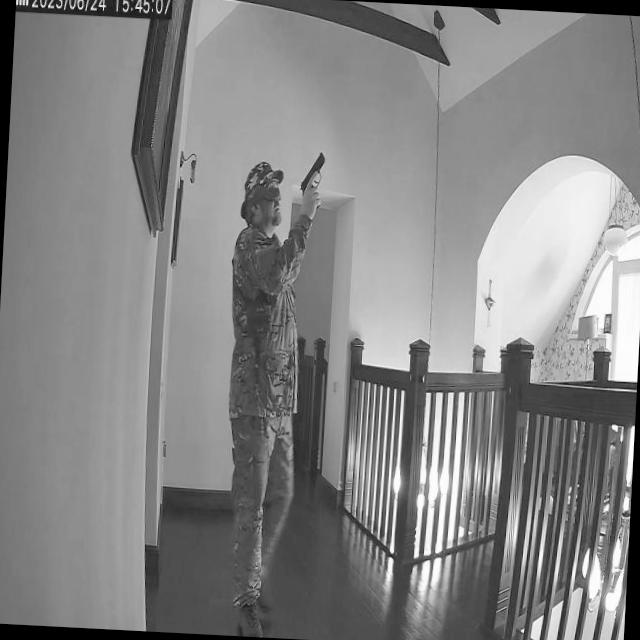gun: (299, 151, 328, 206)
person with a gun: (214, 146, 330, 636)
